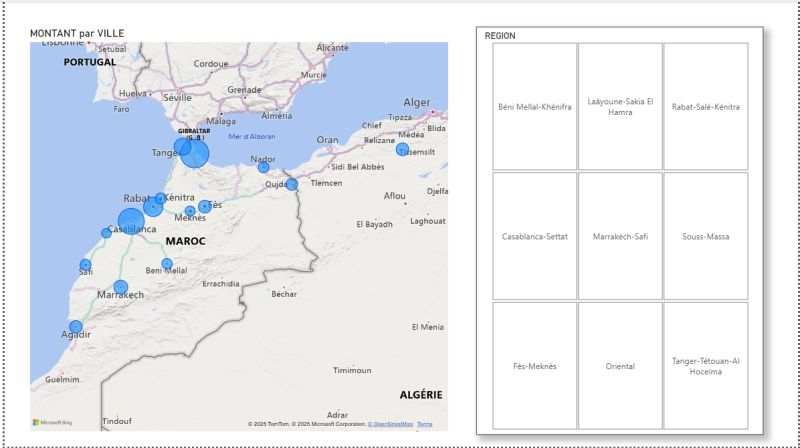

The page's visual inventory and layout, read from the dashboard file:
{"tool":"powerbi","page":{"name":"Analyse Géographique","canvas":[1280,720],"ordinal":1},"visuals":[{"type":"map","title":"MONTANT par VILLE","fields":{"Category":["DIM CLIENT.VILLE"],"Size":["FAIT VENTES.MONTANT"]},"box":[35,41.7,685,658.3],"z":0},{"type":"slicer","fields":{"Values":["DIM CLIENT.REGION"]},"box":[761.7,41.7,463.3,658.3],"z":1000}]}

Visuals, with their boxes in screenshot pixels (x1, y1, x2, y2), scaled from the page's 1280x720 canvas onto the 800x448 screenshot:
"MONTANT par VILLE" map: bbox(22, 26, 450, 436)
slicer - DIM CLIENT.REGION: bbox(476, 26, 766, 436)
